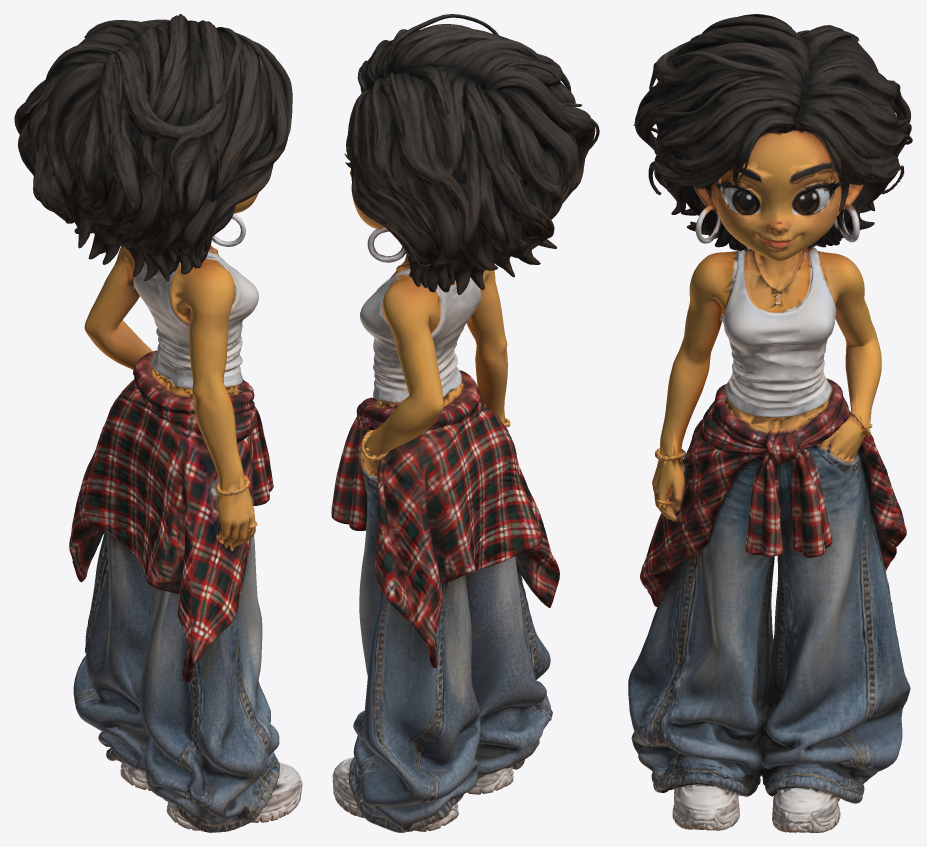
The model's file is harbour-gesture.glb.
3 views of the same model, side by side, from view 1: azimuth 30°, elevation 25°; view 2: azimuth 150°, elevation 25°; view 3: azimuth 270°, elevation 25° (orthographic).
Parts seen in each view (by area): view 1: tripo_node_95fe772b-52a6-48dd-a593-d081bf1e3fc1, FlowerArm; view 2: tripo_node_95fe772b-52a6-48dd-a593-d081bf1e3fc1, FlowerArm; view 3: tripo_node_95fe772b-52a6-48dd-a593-d081bf1e3fc1, FlowerArm.
Boxes of the visible parts, <box> form: tripo_node_95fe772b-52a6-48dd-a593-d081bf1e3fc1: <box>14,14,302,832</box>; FlowerArm: <box>184,313,257,565</box>; tripo_node_95fe772b-52a6-48dd-a593-d081bf1e3fc1: <box>331,14,599,832</box>; FlowerArm: <box>475,273,510,429</box>; tripo_node_95fe772b-52a6-48dd-a593-d081bf1e3fc1: <box>628,14,912,832</box>; FlowerArm: <box>652,298,709,541</box>.
Bounding box in the file's own units: 0.2944 × 0.9799 × 0.3292.
1 material, 1 textured.
